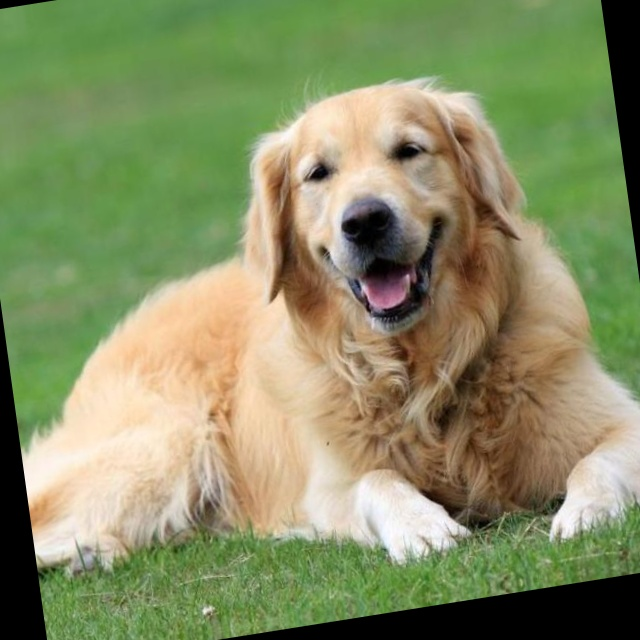dog: (0, 20, 640, 640)
